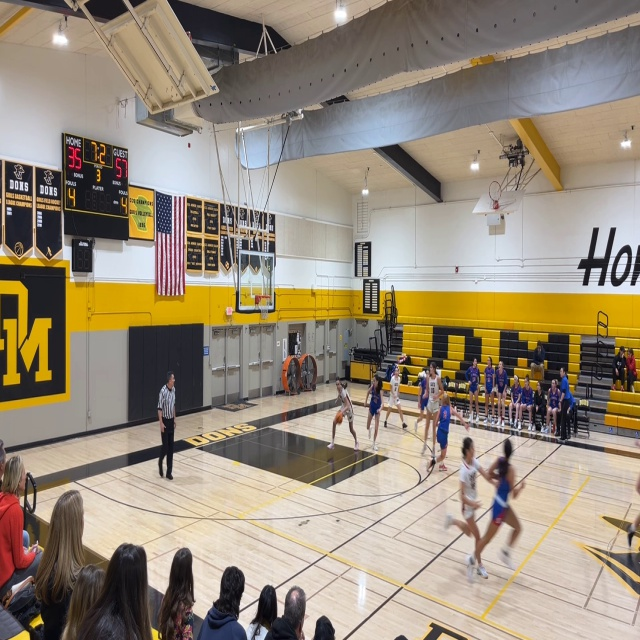Basketball: (333, 413, 343, 424)
